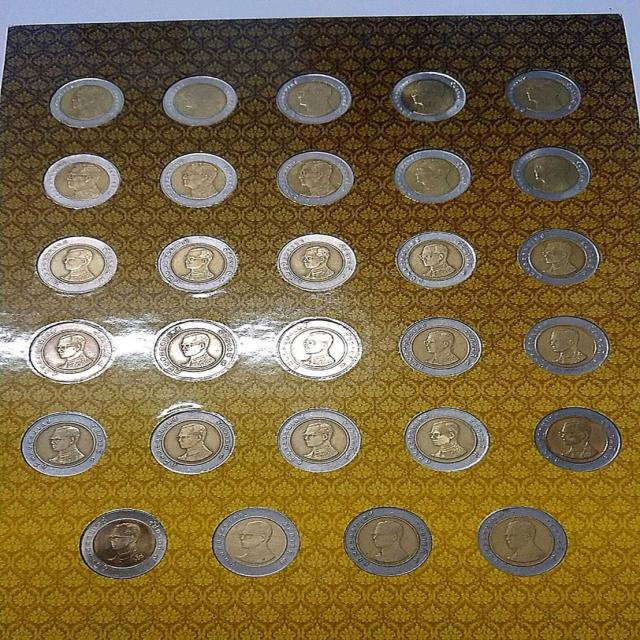10 Bath: (399, 403, 499, 474), (532, 404, 624, 476), (26, 319, 122, 387), (345, 503, 433, 577), (474, 506, 566, 575), (210, 507, 300, 577), (78, 507, 168, 577), (270, 319, 364, 385), (153, 229, 240, 298), (150, 405, 234, 475), (18, 413, 107, 478), (395, 318, 485, 382), (515, 229, 609, 290), (38, 232, 123, 299), (276, 232, 364, 295), (152, 319, 240, 382), (279, 408, 361, 474), (384, 66, 474, 125), (157, 148, 240, 211), (395, 232, 483, 291), (525, 315, 611, 373), (499, 71, 591, 122), (46, 76, 126, 134), (156, 77, 244, 128), (44, 154, 126, 208), (276, 152, 355, 208), (393, 150, 472, 204), (276, 73, 353, 128), (515, 149, 592, 203)
